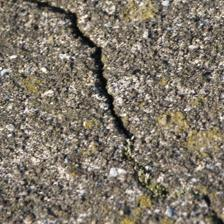Crack: (33, 2, 138, 144)
